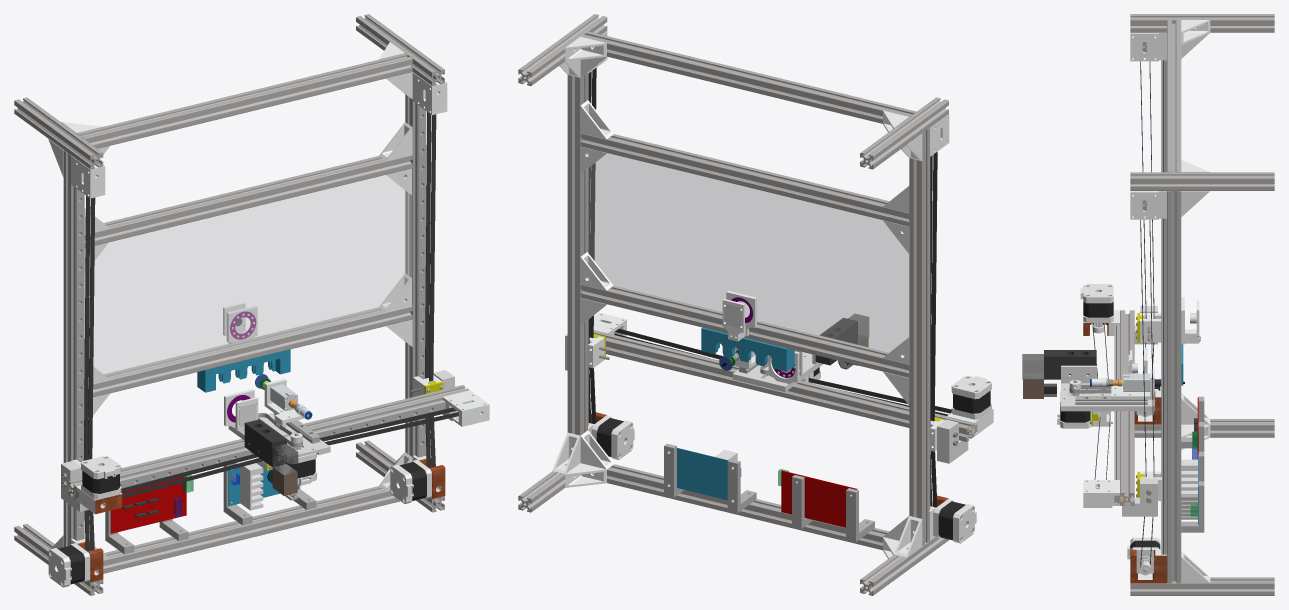
3 renders of one model, left to right at view 1: azimuth 30°, elevation 25°; view 2: azimuth 150°, elevation 25°; view 3: azimuth 270°, elevation 25°, orthographic. The views are drawn at different scales.
Visible parts, largest first — view 1: Твердое тело2 (×15), Твердое тело1 (×24), Твердое тело3; view 2: Твердое тело2 (×13), Твердое тело1 (×25); view 3: Твердое тело2 (×14), Твердое тело1 (×21), Твердое тело3 (×3).
Part boxes in pixels (box(x1,y1,x2,y2)): Твердое тело2 (×15): box(14, 14, 469, 595); Твердое тело1 (×24): box(48, 72, 489, 587); Твердое тело3: box(267, 464, 297, 495); Твердое тело2 (×13): box(518, 14, 974, 595); Твердое тело1 (×25): box(552, 36, 991, 557); Твердое тело2 (×14): box(1022, 14, 1274, 595); Твердое тело1 (×21): box(1044, 20, 1210, 583); Твердое тело3 (×3): box(1023, 373, 1197, 573).
Bounding box in the file's own units: 0.6095 × 0.64 × 0.3497.
Materials: 49 (1 with a texture image).
